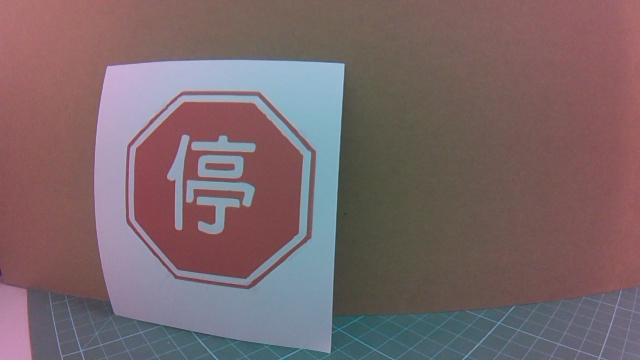stop: (134, 85, 320, 291)
